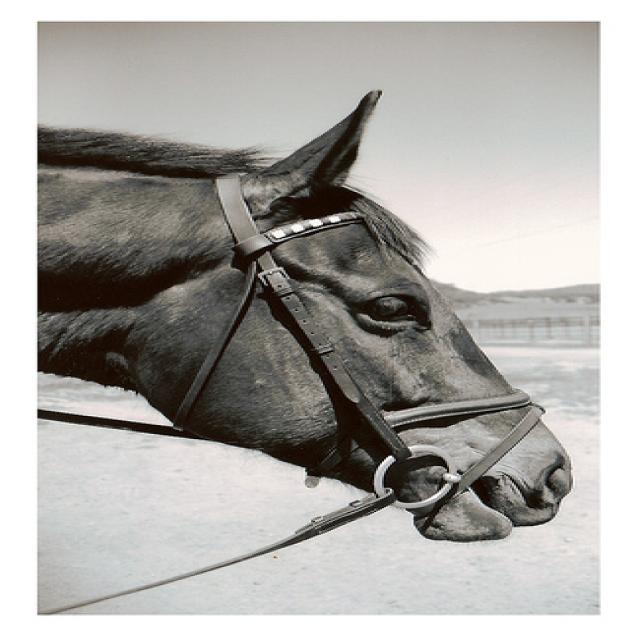horse: (38, 91, 576, 544)
